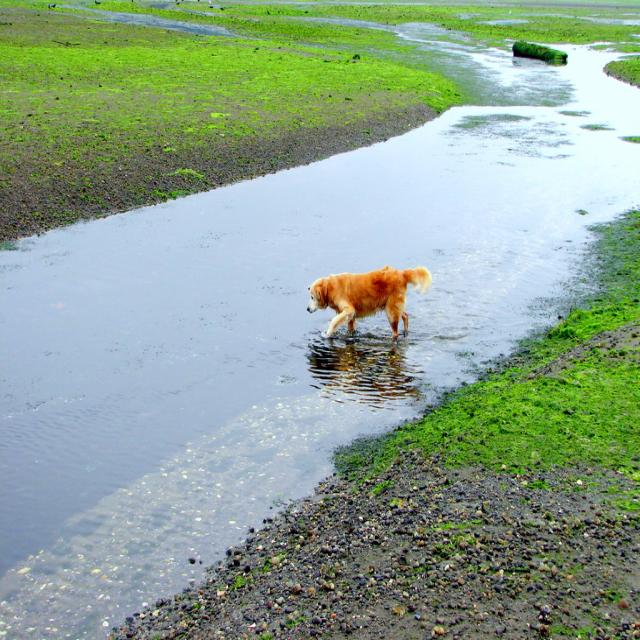Dog: (304, 264, 430, 342)
